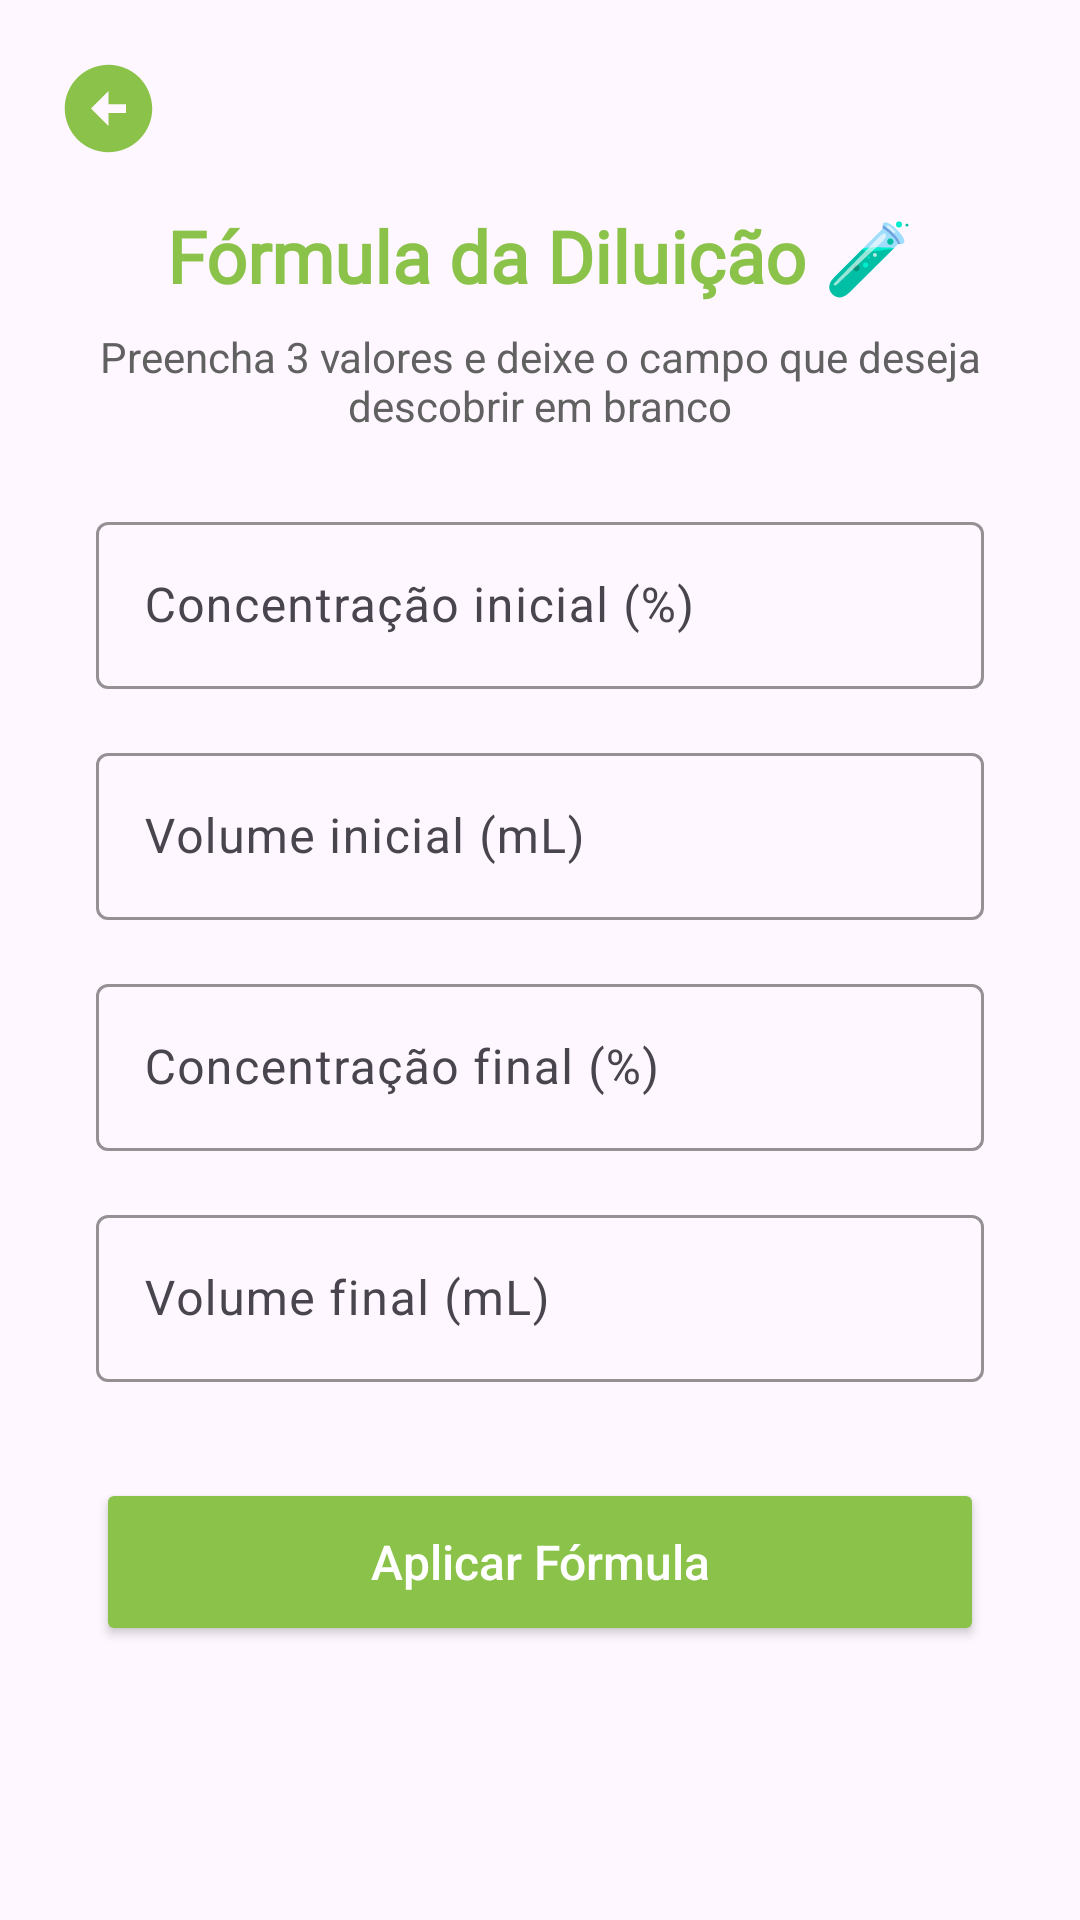

Icon click points for this 1080x1920 phone screenshot, format (x=x, y=y):
Voltar: (x=108, y=108)
